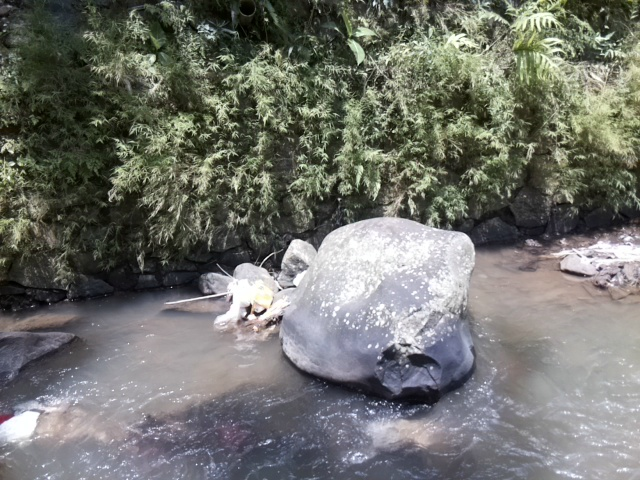Sampah_Plastik: (217, 274, 280, 323), (1, 404, 43, 446)
